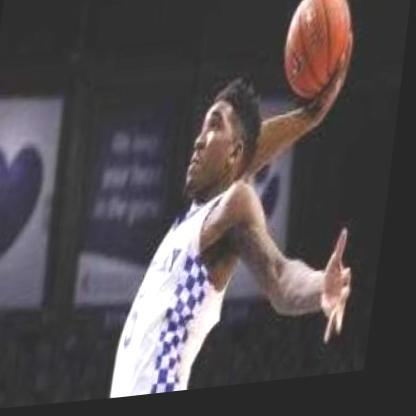basketball: (280, 0, 360, 109)
